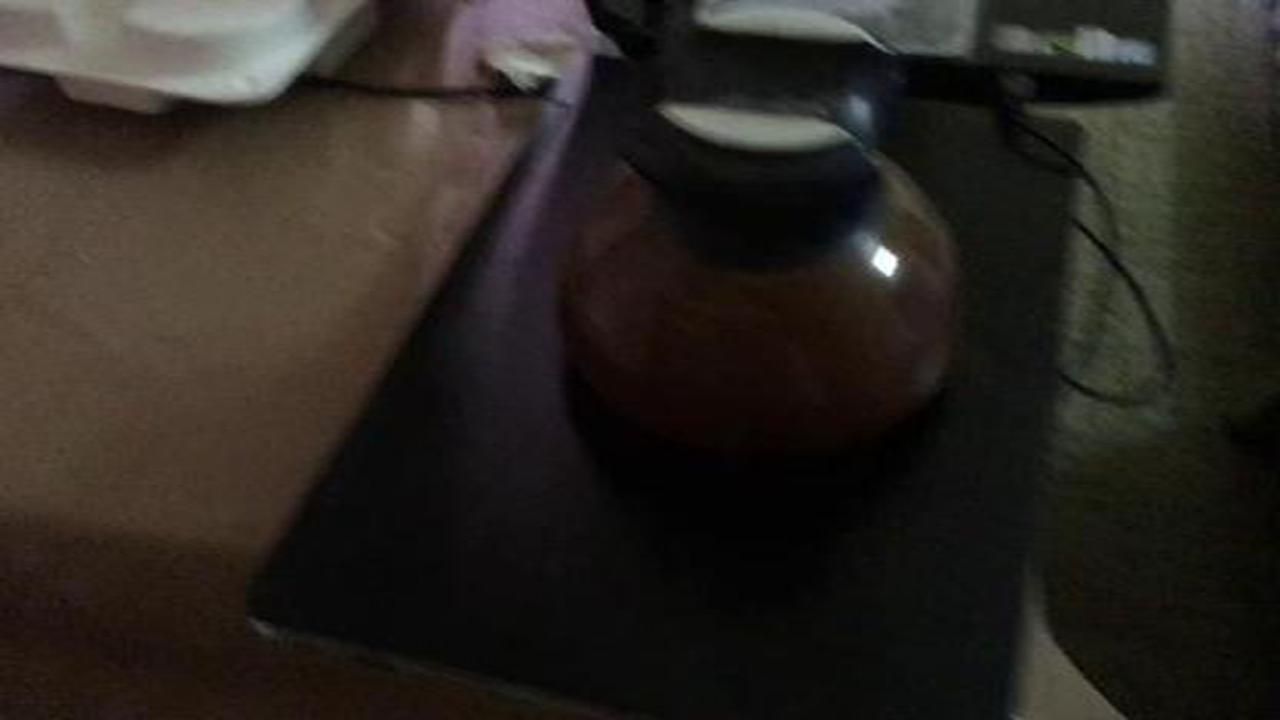insulator_pin: (539, 6, 982, 489)
